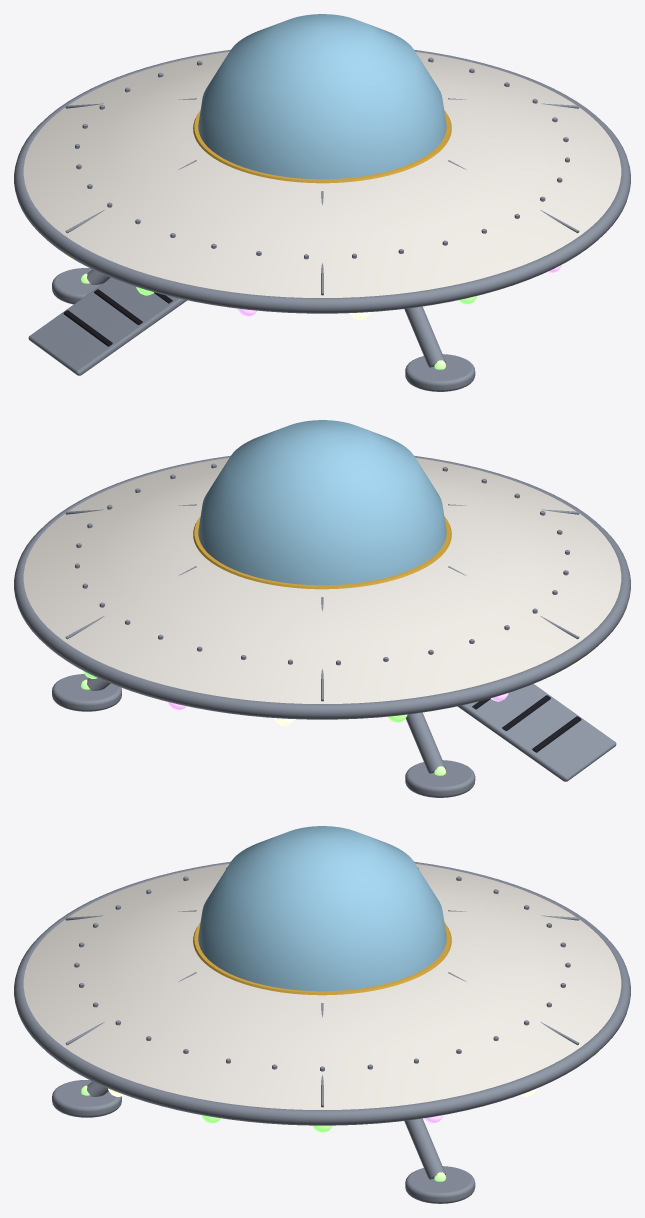
Rendered from ufo.glb.
The picture shows the model from 3 angles, top to bottom: view 1: azimuth 30°, elevation 25°; view 2: azimuth 150°, elevation 25°; view 3: azimuth 270°, elevation 25°; orthographic projection.
Parts seen in each view (by area): view 1: ufo; view 2: ufo; view 3: ufo.
Part boxes in pixels (box(x1,y1,x2,y2)): ufo: box(14, 14, 630, 391); ufo: box(14, 420, 630, 797); ufo: box(14, 826, 630, 1203).
Size of the model in its own units: 6.19 by 2.9 by 6.16.
Materials: 1 (1 with a texture image).
